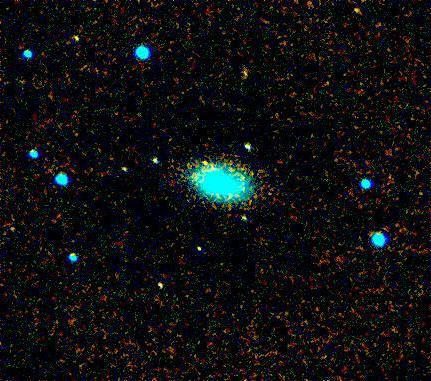star: (186, 145, 216, 175)
